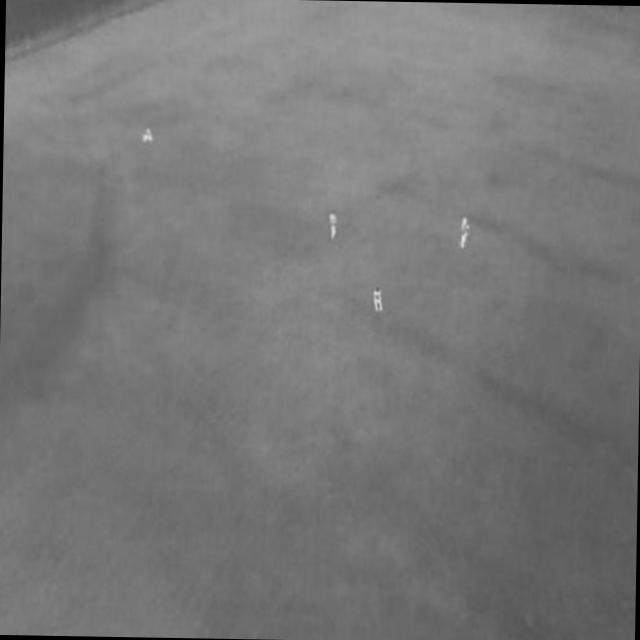person: (458, 216, 471, 249), (328, 211, 340, 241), (373, 287, 383, 313), (142, 127, 154, 143)
